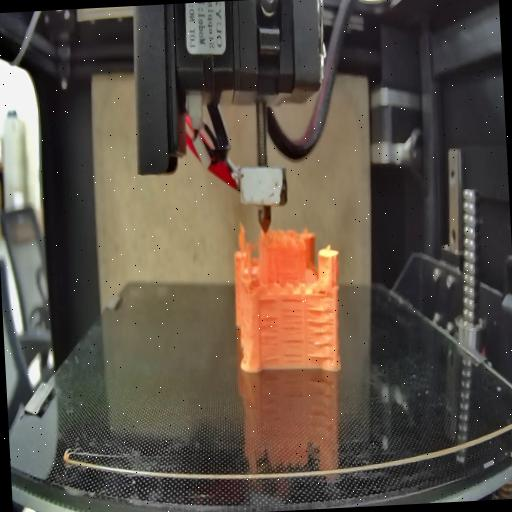cracks: (304, 306, 334, 362), (257, 314, 279, 365), (280, 297, 304, 331), (284, 336, 304, 364), (314, 286, 330, 299), (257, 296, 276, 304)
